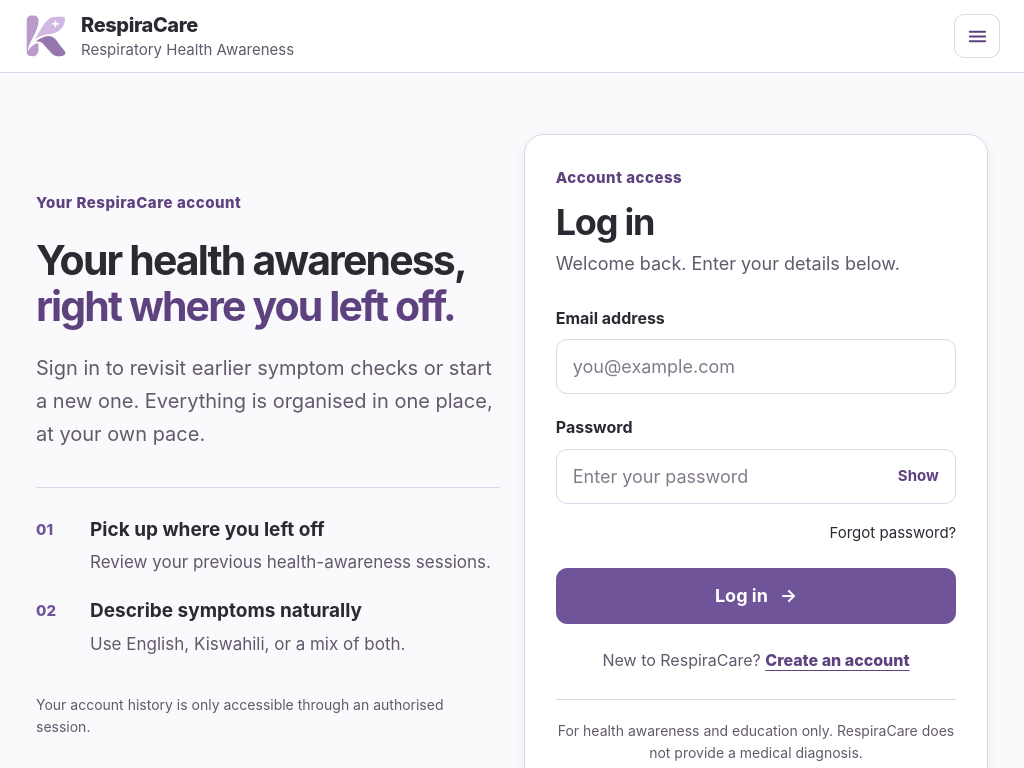
Scenario: forgotten-password recovery › opens recovery from the login link
Click the link "Forgot password?": (893, 532) [830,523,956,542]
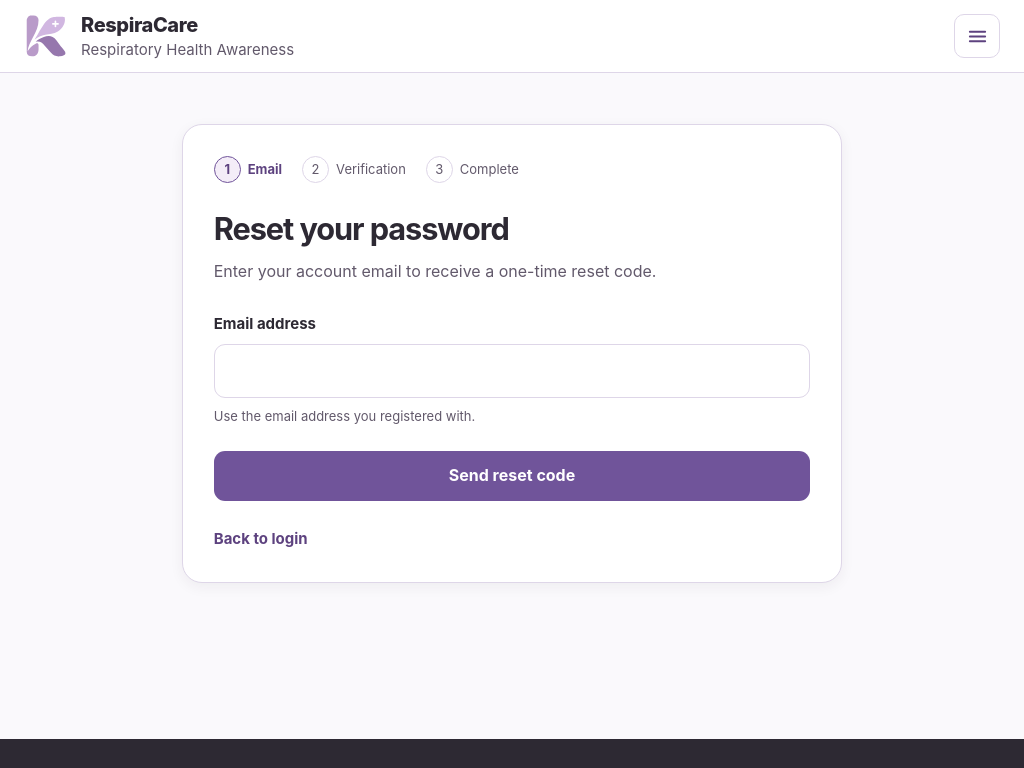
Expected: the heading "Reset your password" is shown, [214,210,509,247]
